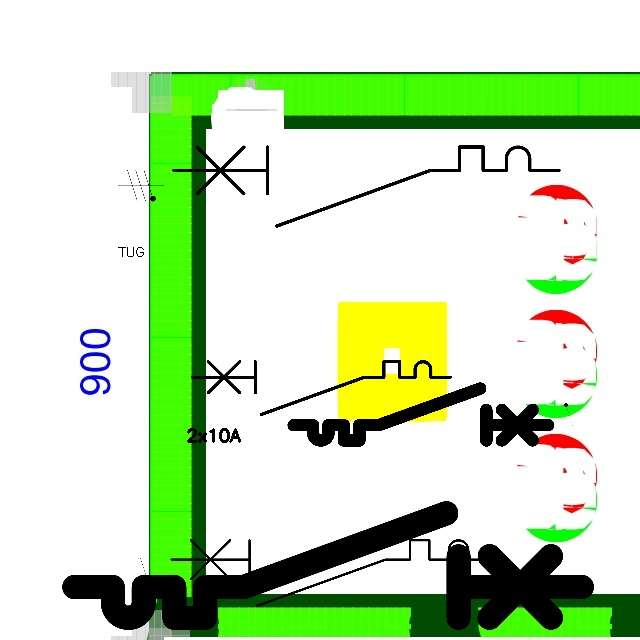interruptor_termomagnetico: (61, 500, 595, 631), (163, 137, 568, 236), (163, 532, 500, 614), (186, 355, 457, 421), (287, 382, 555, 447)
